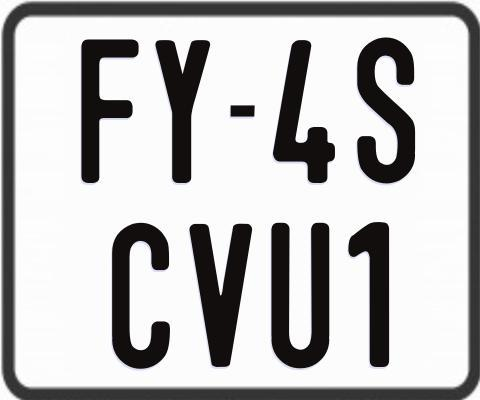1: (347, 222, 390, 371)
4: (271, 37, 338, 184)
C: (109, 220, 173, 367)
F: (78, 38, 138, 185)
S: (356, 36, 420, 184)
U: (269, 223, 331, 374)
V: (188, 221, 251, 367)
Y: (152, 38, 209, 184)
